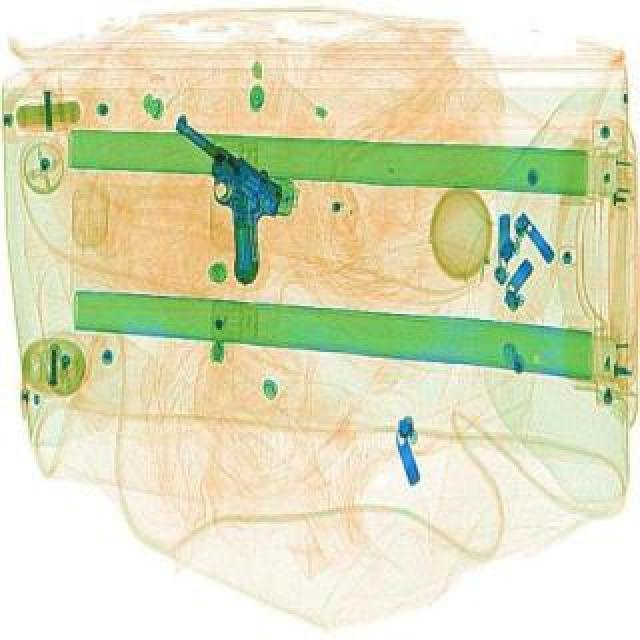gun: (116, 112, 320, 292)
